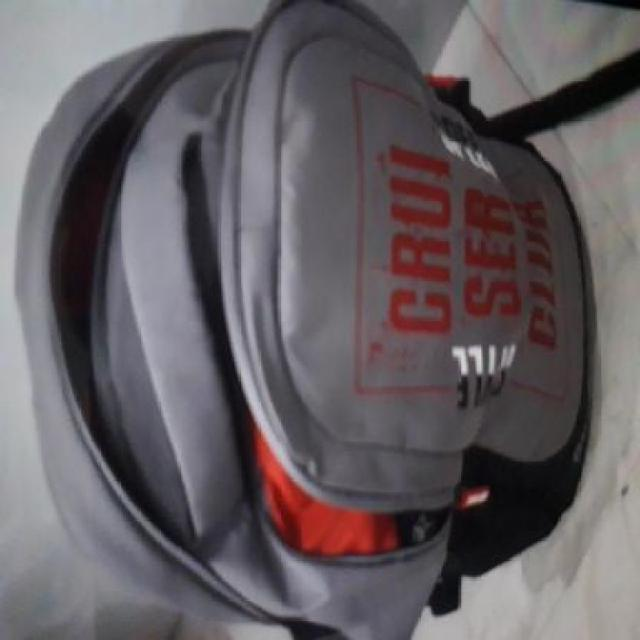backpack: (11, 0, 606, 640)
